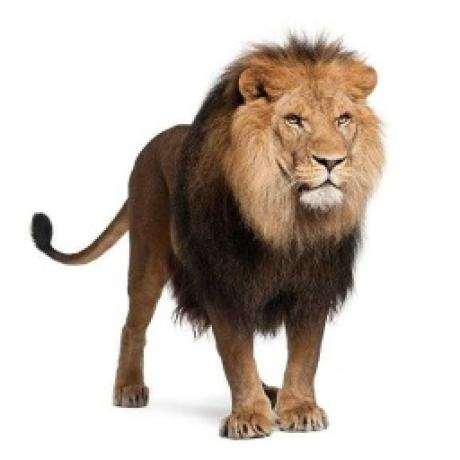Lion: (31, 32, 392, 442)
